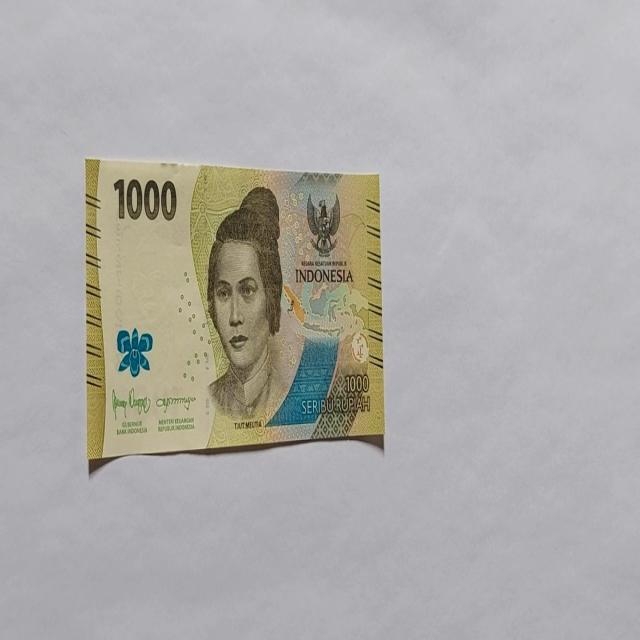seribu rupiah kertas: (84, 156, 384, 470)
